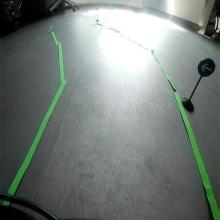left: (198, 58, 216, 78)
